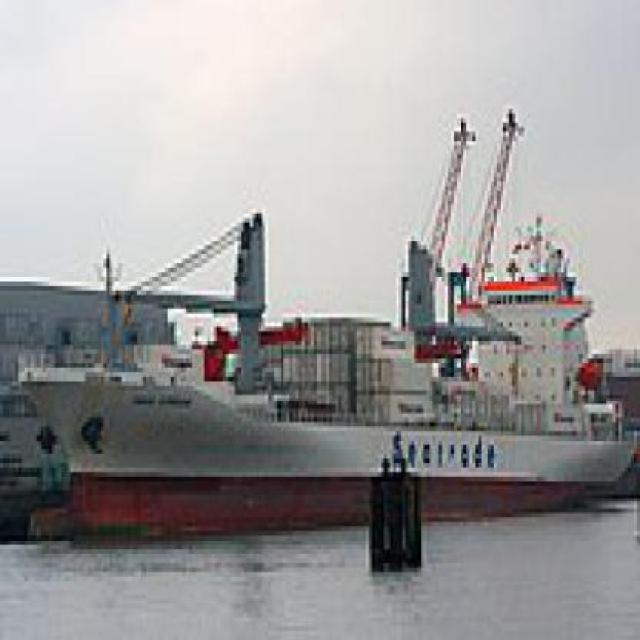container: (19, 241, 638, 555)
